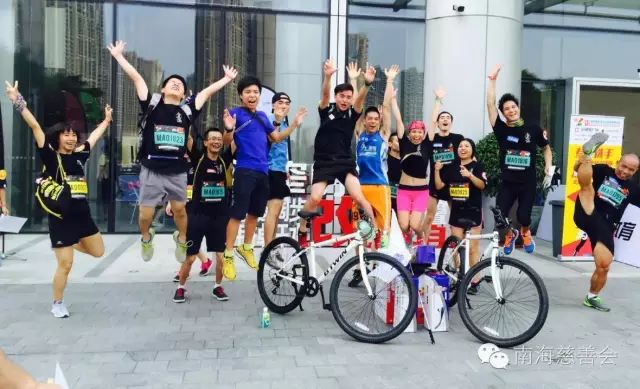handsup: (3, 76, 127, 331), (106, 35, 238, 261), (301, 55, 381, 250), (484, 54, 548, 258)
